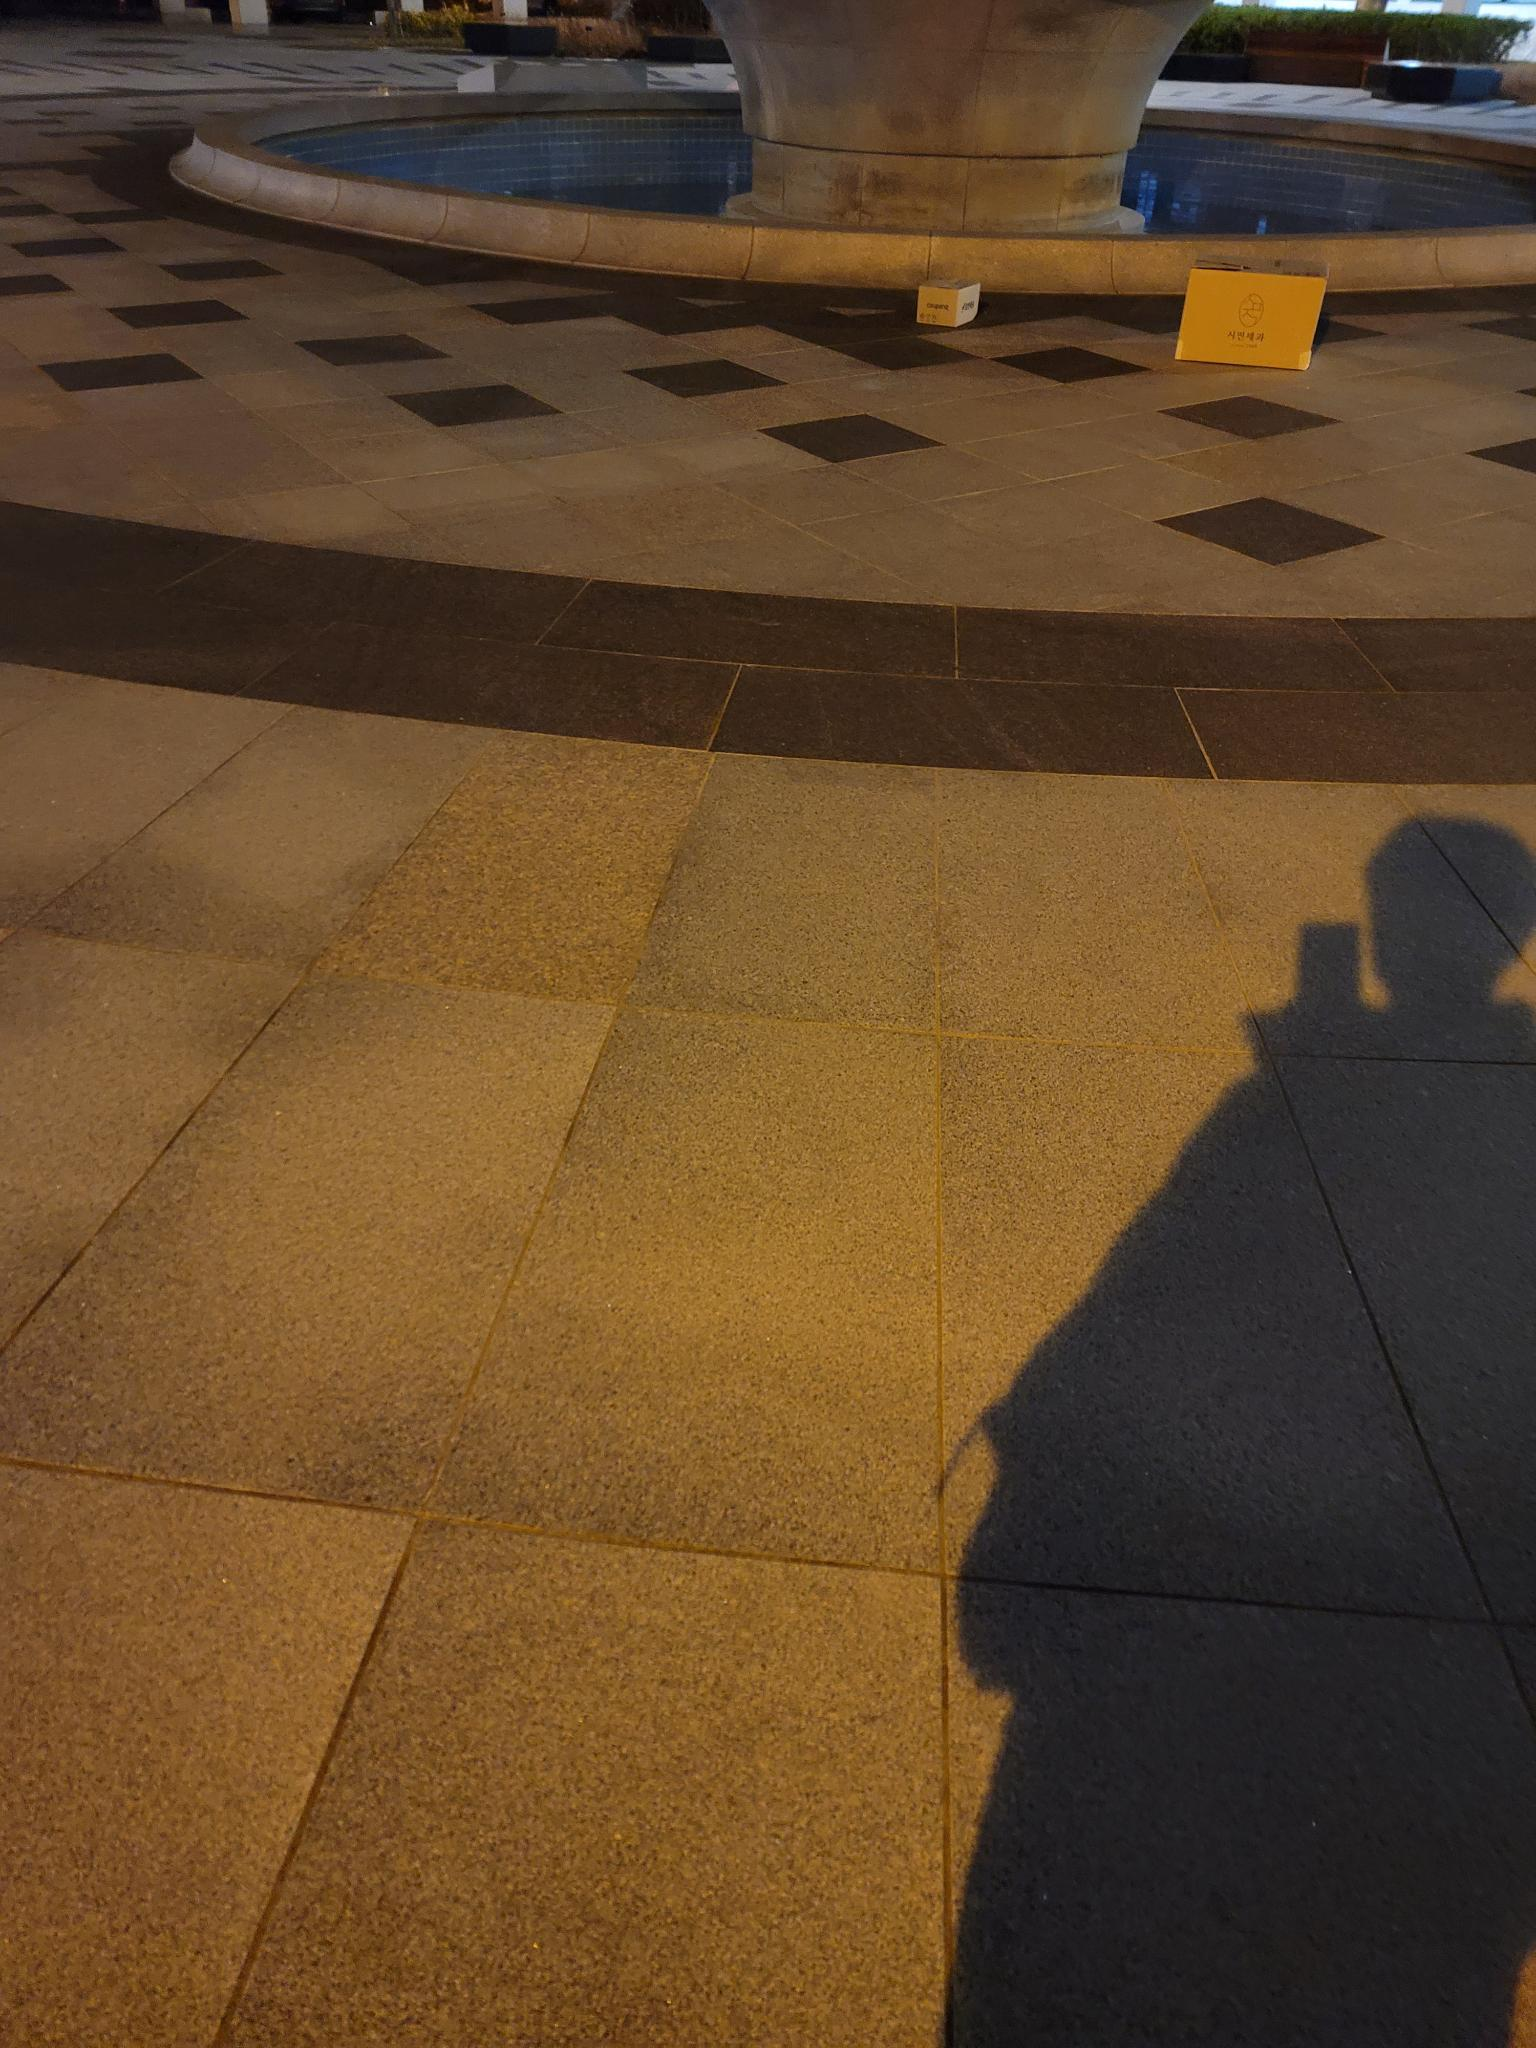Box: (1176, 248, 1333, 371), (908, 269, 987, 335)
